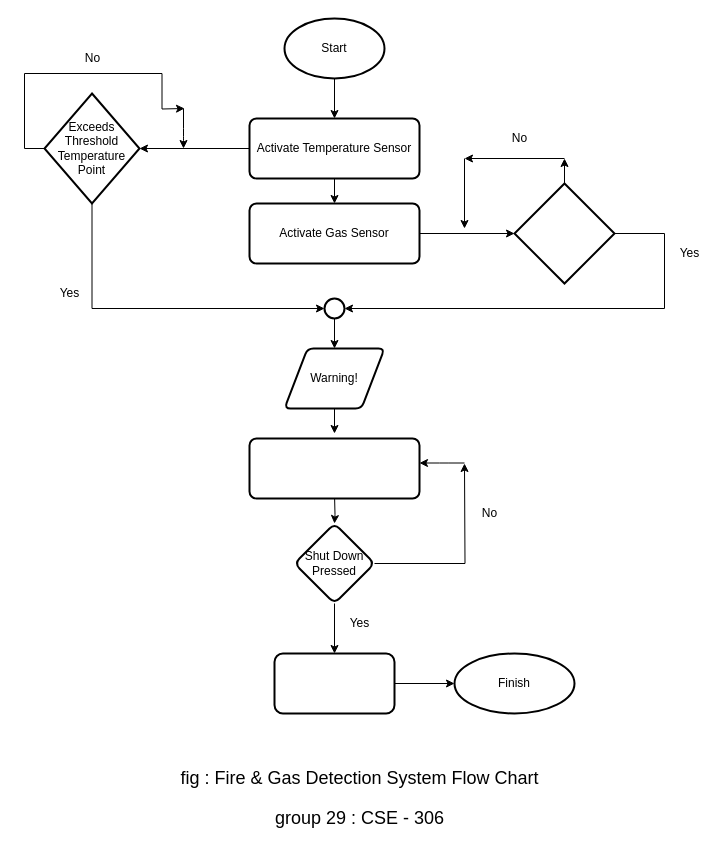
Some shapes in this 722 by 846 pixel diagram are drawn without their labels. The box of each missing label's shape, as (x1, y1, x2, y2) in pixels:
Exceeds Threshold Gas Point: (513, 182, 615, 284)
Reset To Default & Shut Down: (273, 652, 395, 714)
Ring Alarm, Blink Lights, Open Doors & Windows: (248, 437, 420, 499)
